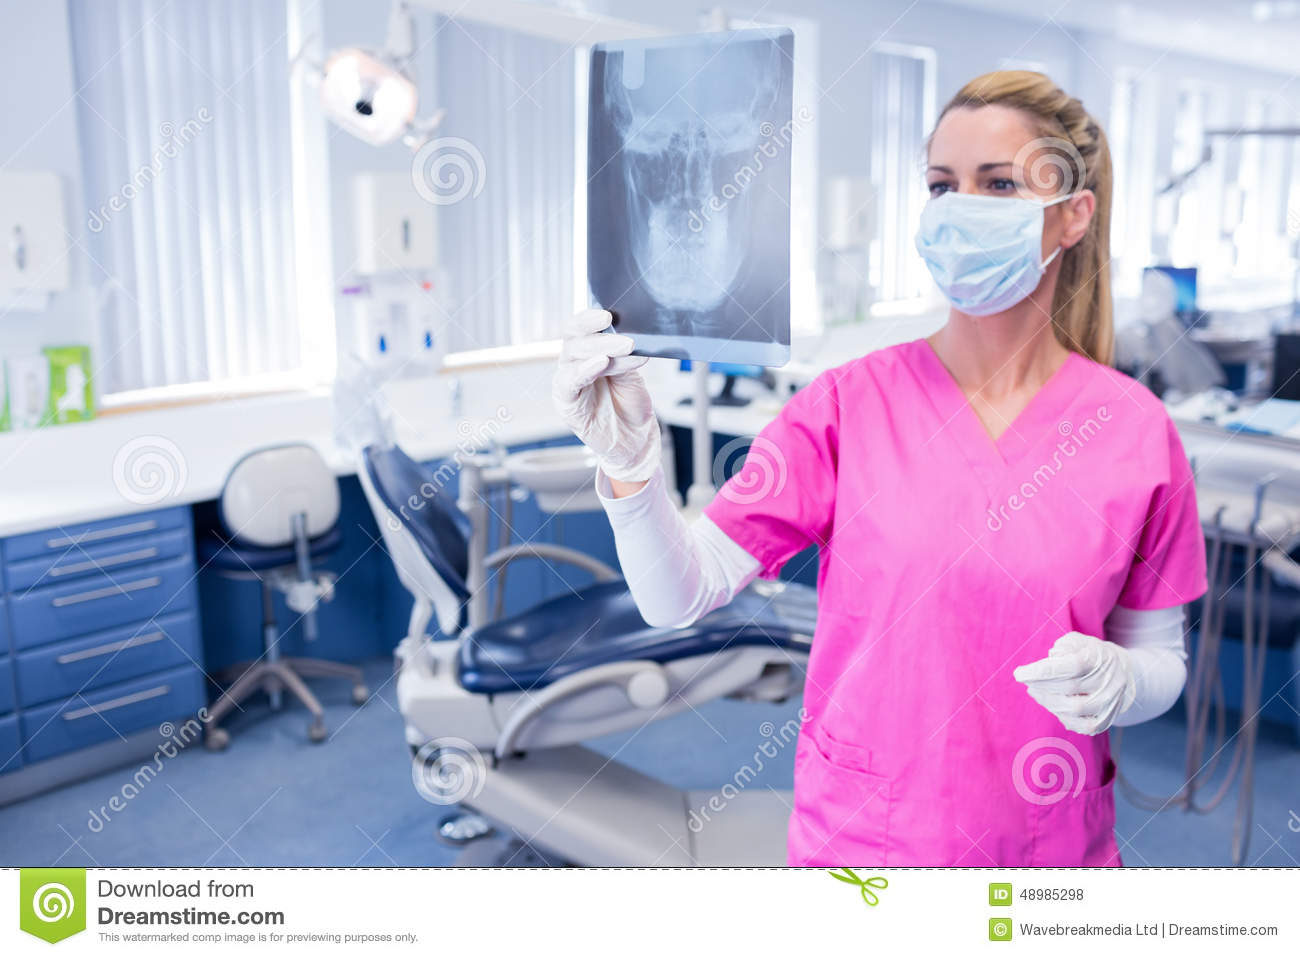mask: (910, 185, 1053, 319)
